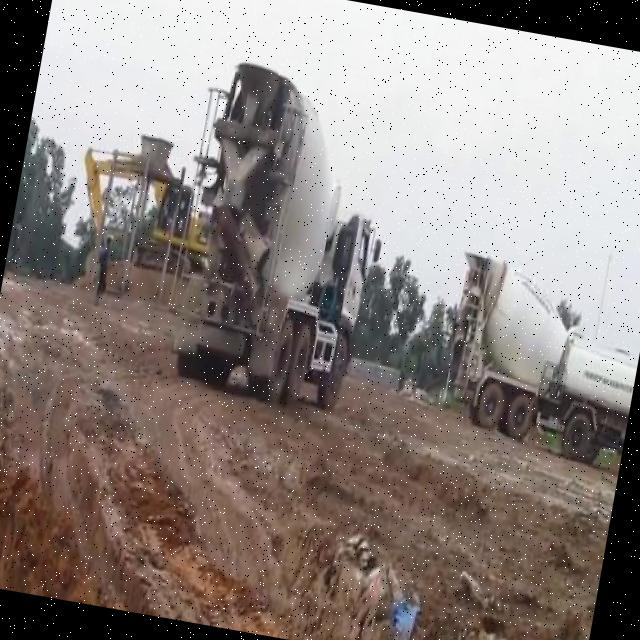Excavator: (67, 146, 223, 282)
